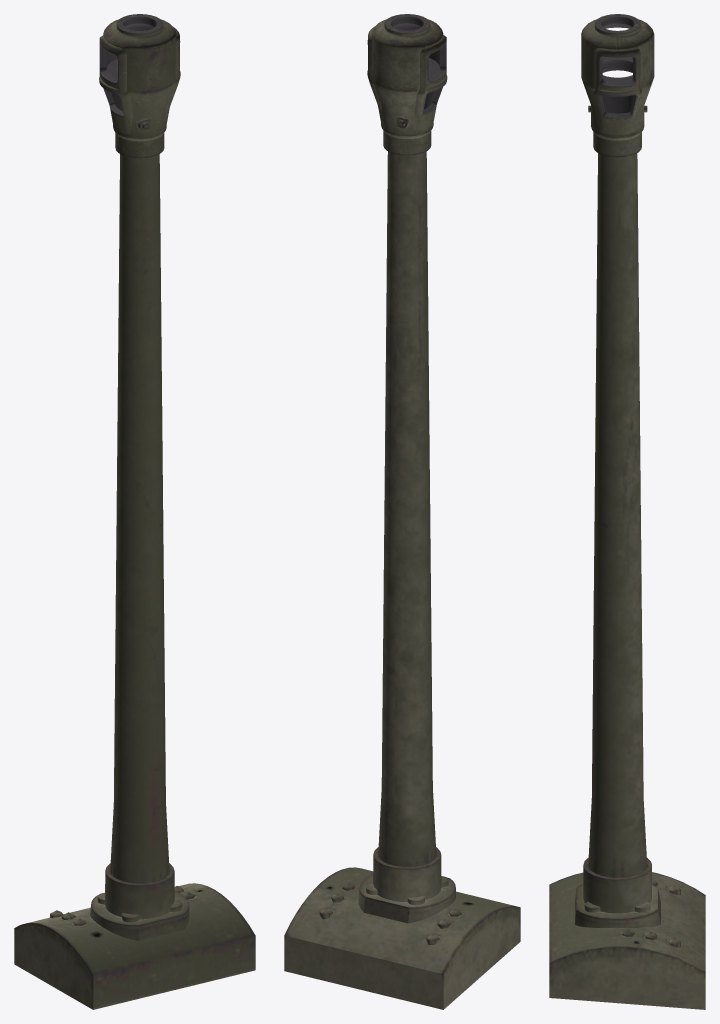
Rendered from Gun_09.glb.
The picture shows the model from 3 angles, left to right: view 1: azimuth 30°, elevation 25°; view 2: azimuth 150°, elevation 25°; view 3: azimuth 270°, elevation 25°; orthographic projection.
Visible parts, largest first — view 1: set_0_group_0; view 2: set_0_group_0; view 3: set_0_group_0.
Part boxes in pixels (left/top/right/bottom): set_0_group_0: left=14, top=14, right=255, bottom=1009; set_0_group_0: left=284, top=14, right=520, bottom=1009; set_0_group_0: left=549, top=14, right=705, bottom=1009.
Bounding box in the file's own units: 0.7979 × 4.47 × 0.6705.
1 material, 1 textured.
